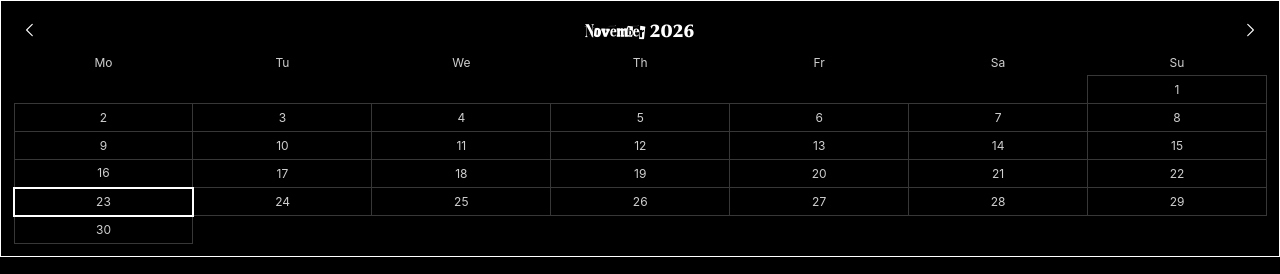
Test: StampCalendar › moves between months, and stamps stay on their own month
This screenshot has width=1280, height=274.
Step 1. Click the button named "Previous month" → (30, 30), box x1=13 y1=13 x2=47 y2=47
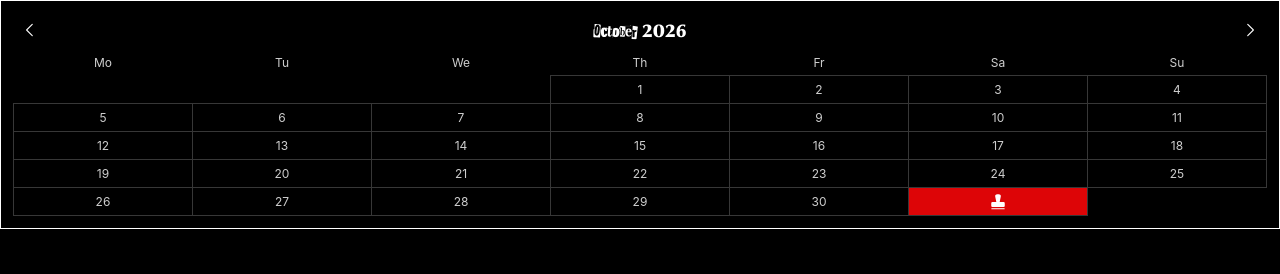
Check: the heading "October 2026" is shown, box x1=593 y1=16 x2=687 y2=44
Step 2. Click the button named "Next month" → (1250, 30), box x1=1233 y1=13 x2=1267 y2=47
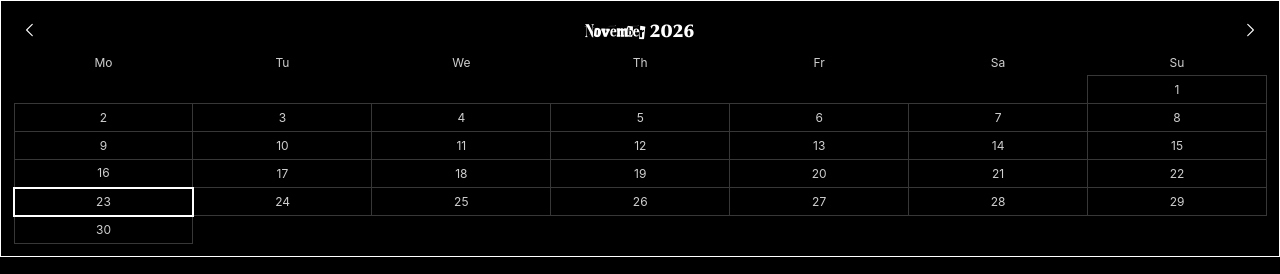
Step 3. Click the button named "Next month" → (1250, 30), box x1=1233 y1=13 x2=1267 y2=47
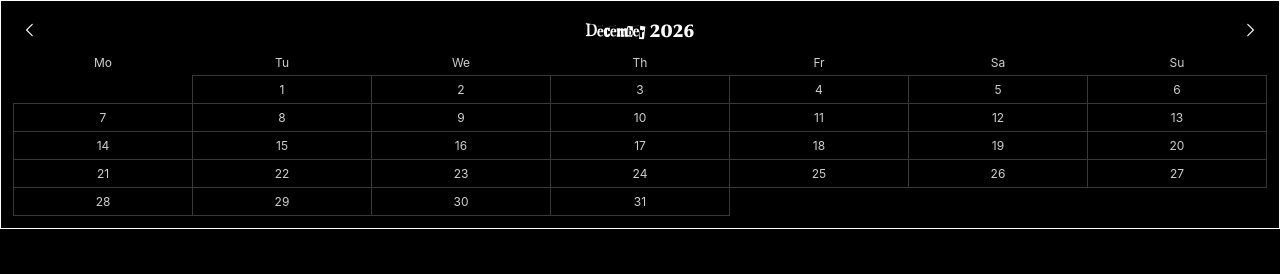
Check: the heading "December 2026" is shown, box x1=585 y1=16 x2=695 y2=44
